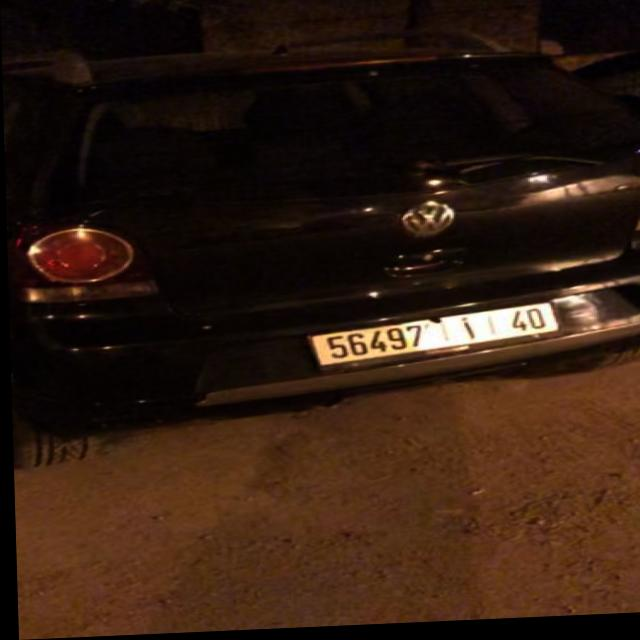License-Plate: (309, 308, 557, 368)
